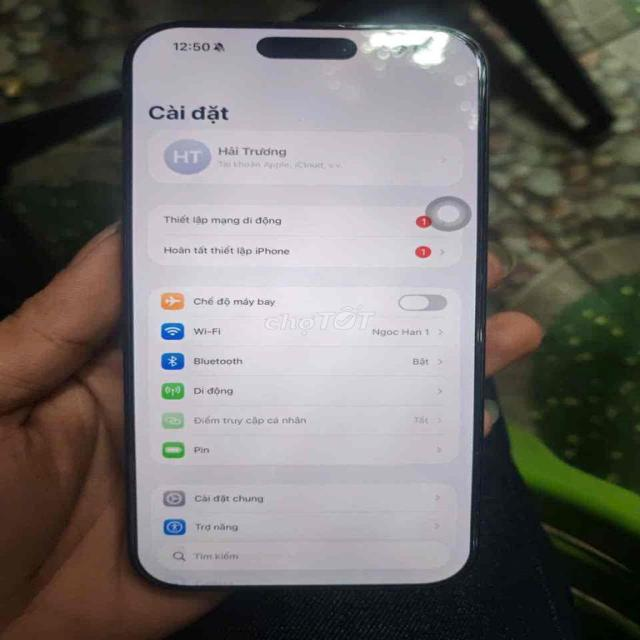gen_16: (125, 22, 487, 588)
